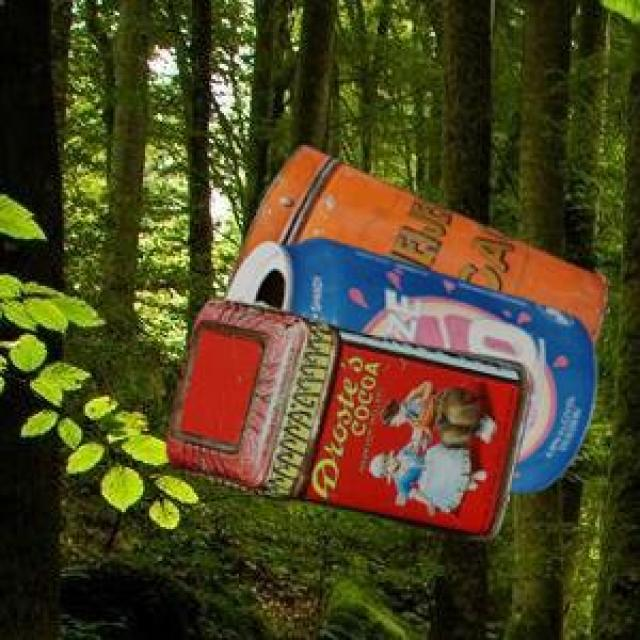logam: (223, 236, 592, 490), (163, 298, 528, 539), (225, 142, 605, 347)
